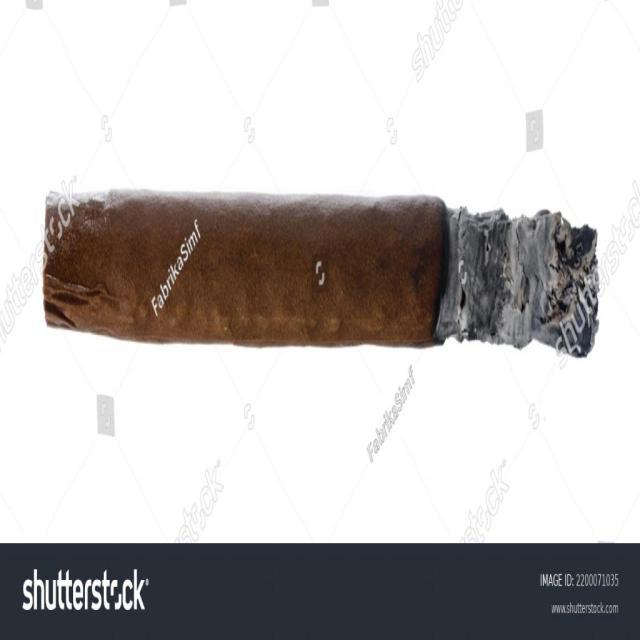smoking: (41, 188, 599, 358)
